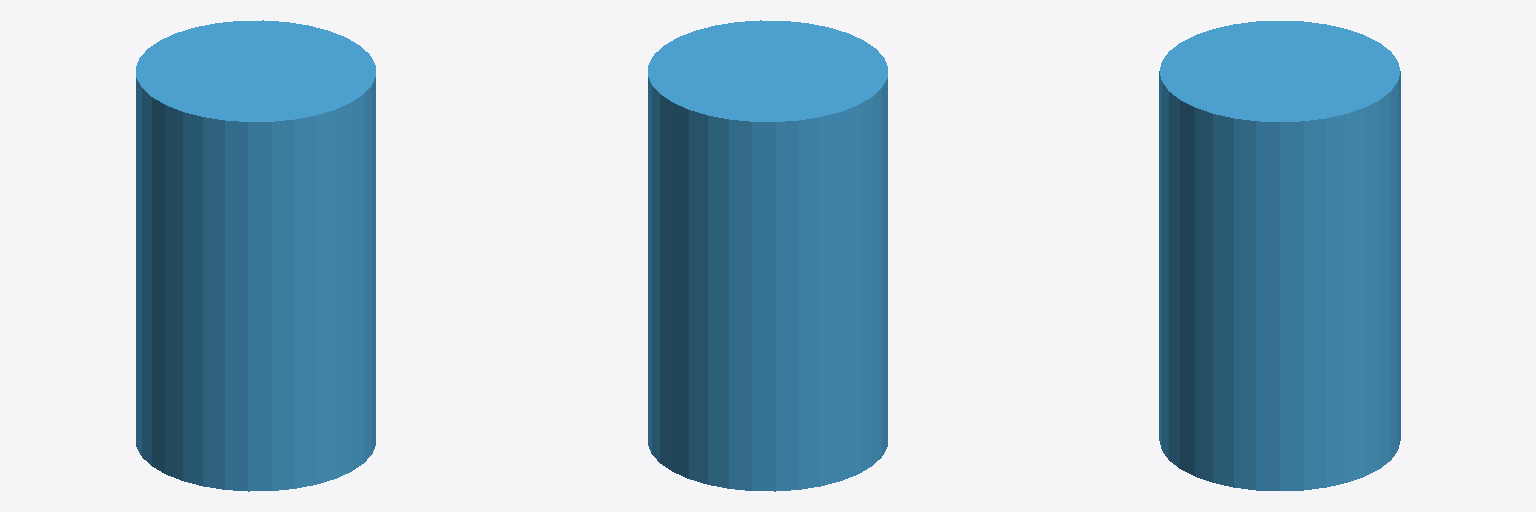
URDF robot description (HDL-32E):
<?xml version="1.0" ?>
<!-- =================================================================================== -->
<!-- |    This document was autogenerated by xacro from HDL-32E.xacro                  | -->
<!-- |    EDITING THIS FILE BY HAND IS NOT RECOMMENDED                                 | -->
<!-- =================================================================================== -->
<robot name="HDL-32E">
<link name='base_link' />

  <joint name="velodyne2_base_mount_joint" type="fixed">
    <origin rpy="0 0 0" xyz="0 0 2"/>
    <parent link="base_link"/>
    <child link="velodyne2_base_link"/>
  </joint>
  
  <link name="velodyne2_base_link">
    <inertial>
      <mass value="1.0"/>
      <origin xyz="0 0 0.07212"/>
      <inertia ixx="0.002188947025" ixy="0" ixz="0" iyy="0.002188947025" iyz="0" izz="0.00091036445"/>
    </inertial>
    <visual>
      <geometry>
        <cylinder length="0.14424" radius="0.04267"/>
      </geometry>
    </visual>
    <collision>
      <origin rpy="0 0 0" xyz="0 0 0.07212"/>
      <geometry>
        <cylinder length="0.14424" radius="0.04267"/>
      </geometry>
    </collision>
  </link>

  
  <joint name="velodyne2_base_scan_joint" type="fixed">
    <origin rpy="0 0 0" xyz="0 0 0.09081"/>
    <parent link="velodyne2_base_link"/>
    <child link="velodyne2"/>
  </joint>
  <link name="velodyne2">
    <inertial>
      <mass value="0.01"/>
      <origin xyz="0 0 0"/>
      <inertia ixx="1e-7" ixy="0" ixz="0" iyy="1e-7" iyz="0" izz="1e-7"/>
    </inertial>
    <visual>
      <origin rpy="0 0 0" xyz="0 0 -0.09081"/>
      <geometry>
        <cylinder length="0.14424" radius="0.04267"/>
      </geometry>
    </visual>
    <collision>
      <geometry>
        <sphere radius="0"/>
      </geometry>
    </collision>
  </link>
  <!-- Gazebo requires the velodyne_gazebo_plugins package -->
  <gazebo reference="velodyne2">
    <sensor name="velodyne2-HDL32E" type="ray">
      <pose>0 0 0 0 0 0</pose>
      <visualize>false</visualize>
      <update_rate>10</update_rate>
      <ray>
        <scan>
          <horizontal>
            <samples>220</samples>
            <resolution>1</resolution>
            <min_angle>-3.141592653589793</min_angle>
            <max_angle>3.141592653589793</max_angle>
          </horizontal>
          <vertical>
            <samples>32</samples>
            <resolution>1</resolution>
            <min_angle>-0.5352924815866609</min_angle>
            <max_angle> 0.18622663118779495</max_angle>
          </vertical>
        </scan>
        <range>
          <min>0.3</min>
          <max>131.0</max>
          <resolution>0.001</resolution>
        </range>
        <noise>
          <type>gaussian</type>
          <mean>0.0</mean>
          <stddev>0.0</stddev>
        </noise>
      </ray>
      <plugin filename="libgazebo_ros_velodyne_laser.so" name="gazebo_ros_laser_controller">
        <ros>
          <namespace>/velodyne2</namespace>
          <remapping>~/out:=/velodyne_points2</remapping>
        </ros>
        <tf_prefix></tf_prefix>
        <frame_name>velodyne2</frame_name>
        <organize_cloud>False</organize_cloud>
        <min_range>0.9</min_range>
        <max_range>130.0</max_range>
        <gaussian_noise>0.008</gaussian_noise>
      </plugin>
    </sensor>
  </gazebo>
</robot>

--- Render facts (derived) ---
The picture shows the robot from 3 angles, left to right: view 1: azimuth 30°, elevation 25°; view 2: azimuth 150°, elevation 25°; view 3: azimuth 270°, elevation 25°; orthographic projection.
Robot: HDL-32E — 3 links, 2 joints (2 fixed); root link base_link; default pose: all joints at 0.
Links seen in each view (by area): view 1: velodyne2_base_link; view 2: velodyne2_base_link; view 3: velodyne2_base_link.
Link boxes in pixels (x1=…): velodyne2_base_link: x1=136, y1=20, x2=375, y2=491; velodyne2_base_link: x1=648, y1=20, x2=887, y2=491; velodyne2_base_link: x1=1159, y1=21, x2=1400, y2=490.
Bounding box of the posed robot: 0.0853 × 0.0853 × 0.1442 m (x, y, z).
Geometry: primitives only (box / cylinder / sphere), no mesh files.
